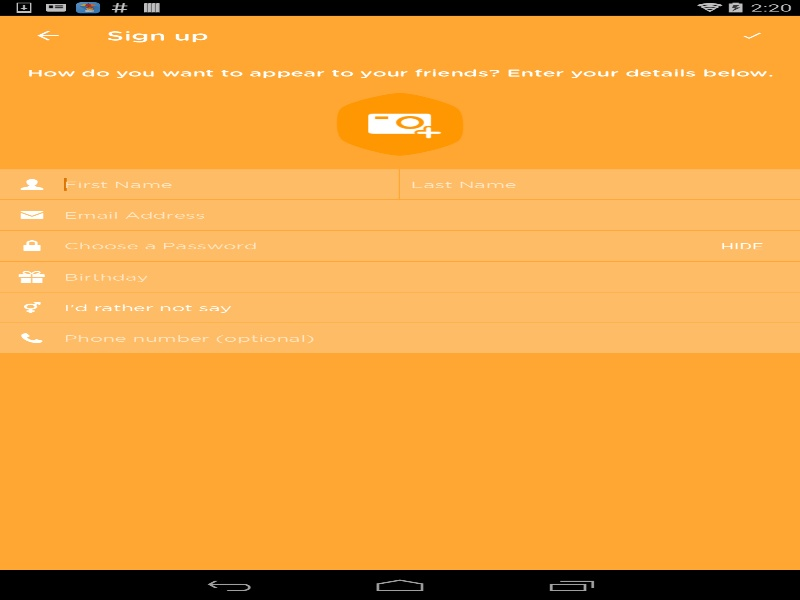Button: (682, 230, 800, 260), (10, 15, 85, 55), (720, 20, 784, 50)
Input: (0, 200, 800, 230), (0, 323, 800, 353), (0, 230, 682, 260), (400, 169, 800, 199), (0, 169, 398, 199)
